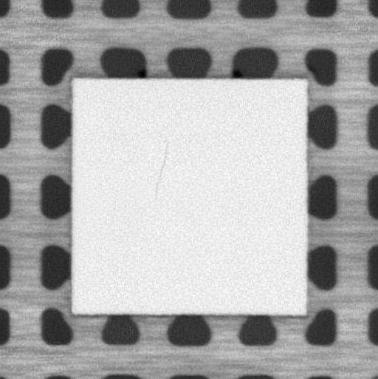DIE_CRACK: (153, 141, 173, 198)
